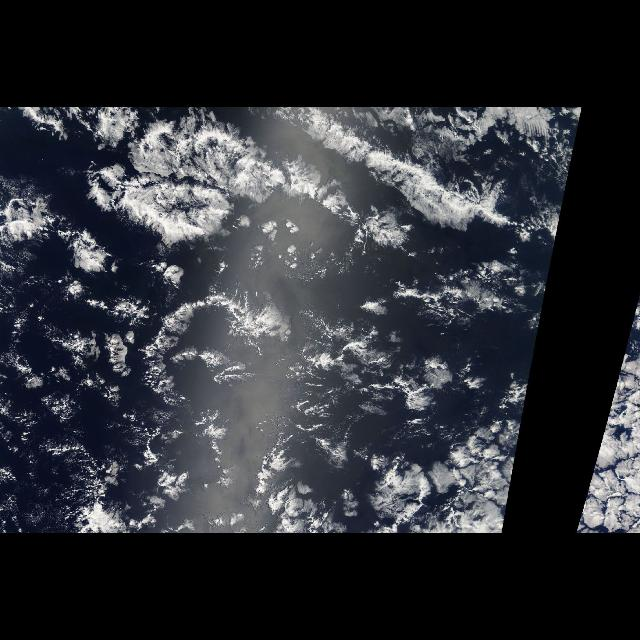Fish: (87, 108, 551, 250)
Flower: (367, 380, 519, 532)
Gravel: (18, 258, 366, 532)
